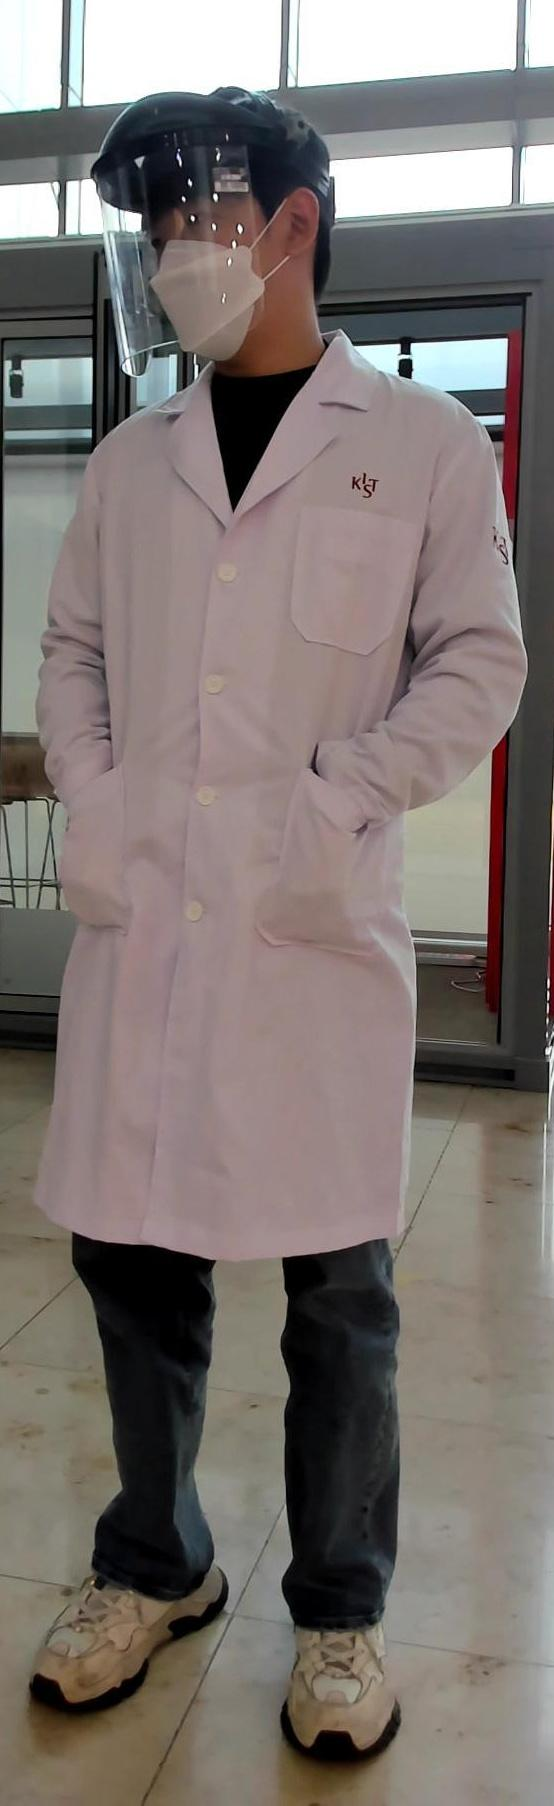lab_coat: (14, 404, 494, 1199)
